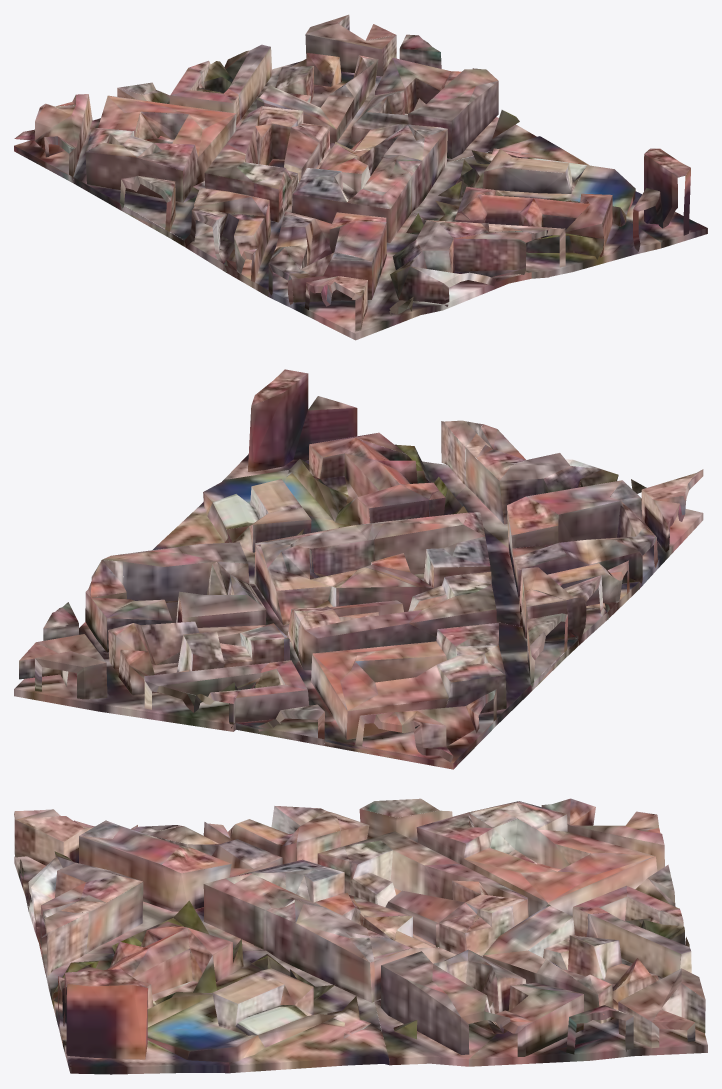
3 renders of one model, top to bottom at view 1: azimuth 30°, elevation 25°; view 2: azimuth 150°, elevation 25°; view 3: azimuth 270°, elevation 25°, orthographic. The views are drawn at different scales.
Visible parts, largest first — view 1: Mesh_0; view 2: Mesh_0; view 3: Mesh_0.
Boxes of the visible parts, x1=… form: Mesh_0: x1=14, y1=14, x2=707, y2=340; Mesh_0: x1=14, y1=369, x2=703, y2=769; Mesh_0: x1=14, y1=798, x2=707, y2=1074.
Size of the model in its own units: 266 by 49.51 by 330.
2 materials, 2 textured.
